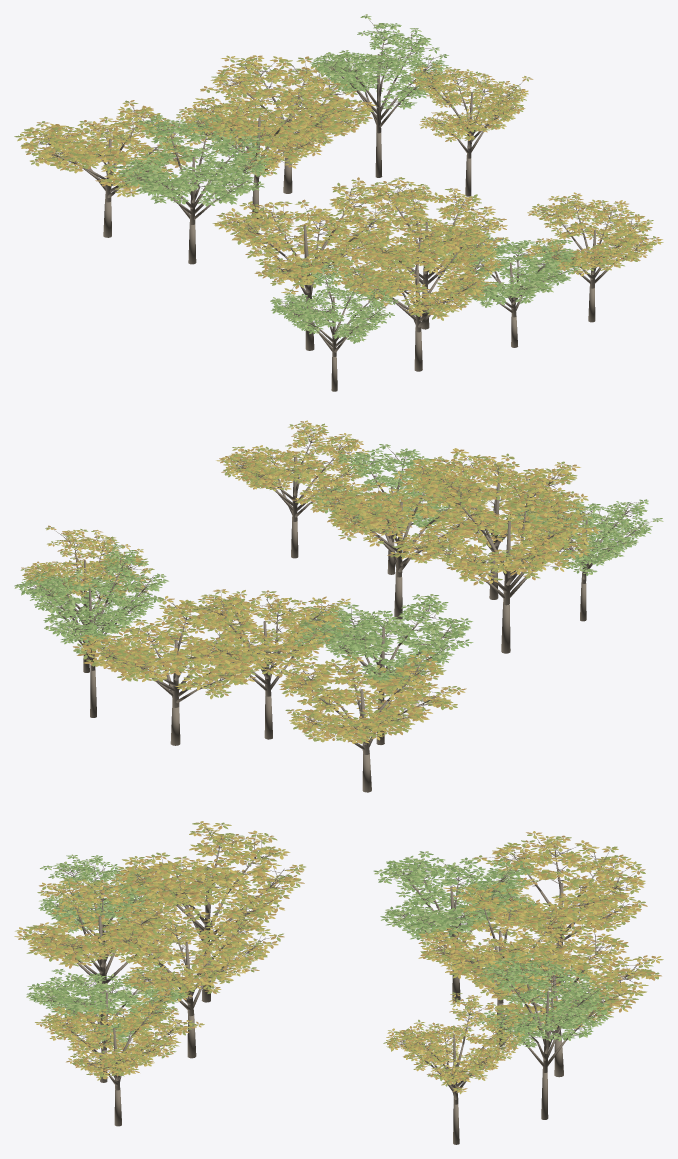
The model's file is 20261104-campus-planting-south-rear.glb.
3 renders of one model, top to bottom at view 1: azimuth 30°, elevation 25°; view 2: azimuth 150°, elevation 25°; view 3: azimuth 270°, elevation 25°, orthographic. The views are drawn at different scales.
Parts seen in each view (by area): view 1: Tree foliage 72 shade 0, Tree foliage 72 shade 2, Tree foliage 72 shade 3, Tree foliage 72 shade 1, Tree foliage 53 shade 3, Tree foliage 53 shade 1, Tree foliage 63 shade 1, Tree foliage 63 shade 0, Tree foliage 63 shade 3, Tree foliage 53 shade 0, Tree foliage 53 shade 2, Tree foliage 63 shade 2 (+48 smaller); view 2: Tree foliage 72 shade 3, Tree foliage 72 shade 0, Tree foliage 72 shade 2, Tree foliage 79 shade 1, Tree foliage 72 shade 1, Tree foliage 79 shade 0, Tree foliage 79 shade 2, Tree foliage 79 shade 3, Tree foliage 54 shade 1, Tree trunk 72, Tree foliage 54 shade 2, Tree foliage 54 shade 0 (+48 smaller); view 3: Tree foliage 72 shade 3, Tree foliage 72 shade 0, Tree foliage 72 shade 1, Tree foliage 72 shade 2, Tree foliage 42 shade 2, Tree foliage 42 shade 3, Tree foliage 42 shade 1, Tree foliage 79 shade 2, Tree foliage 79 shade 1, Tree foliage 79 shade 3, Tree foliage 42 shade 0, Tree foliage 67 shade 2 (+48 smaller).
Part boxes in pixels (x1=…): Tree foliage 72 shade 0: x1=212, y1=181, x2=398, y2=295; Tree foliage 72 shade 2: x1=216, y1=177, x2=394, y2=292; Tree foliage 72 shade 3: x1=219, y1=179, x2=397, y2=291; Tree foliage 72 shade 1: x1=214, y1=180, x2=397, y2=294; Tree foliage 53 shade 3: x1=108, y1=116, x2=272, y2=204; Tree foliage 53 shade 1: x1=113, y1=113, x2=266, y2=206; Tree foliage 63 shade 1: x1=332, y1=218, x2=496, y2=320; Tree foliage 63 shade 0: x1=334, y1=217, x2=498, y2=319; Tree foliage 63 shade 3: x1=338, y1=219, x2=501, y2=317; Tree foliage 53 shade 0: x1=108, y1=116, x2=269, y2=205; Tree foliage 53 shade 2: x1=116, y1=115, x2=267, y2=203; Tree foliage 63 shade 2: x1=333, y1=217, x2=504, y2=318; Tree foliage 72 shade 3: x1=419, y1=478, x2=595, y2=584; Tree foliage 72 shade 0: x1=422, y1=478, x2=592, y2=581; Tree foliage 72 shade 2: x1=412, y1=475, x2=598, y2=585; Tree foliage 79 shade 1: x1=275, y1=650, x2=457, y2=743; Tree foliage 72 shade 1: x1=414, y1=475, x2=600, y2=583; Tree foliage 79 shade 0: x1=276, y1=649, x2=460, y2=741; Tree foliage 79 shade 2: x1=273, y1=653, x2=465, y2=743; Tree foliage 79 shade 3: x1=271, y1=652, x2=466, y2=743; Tree foliage 54 shade 1: x1=73, y1=599, x2=272, y2=697; Tree trunk 72: x1=420, y1=477, x2=592, y2=653; Tree foliage 54 shade 2: x1=81, y1=599, x2=269, y2=699; Tree foliage 54 shade 0: x1=73, y1=598, x2=273, y2=695; Tree foliage 72 shade 3: x1=114, y1=822, x2=305, y2=930; Tree foliage 72 shade 0: x1=118, y1=823, x2=304, y2=929; Tree foliage 72 shade 1: x1=118, y1=821, x2=300, y2=930; Tree foliage 72 shade 2: x1=115, y1=822, x2=304, y2=931; Tree foliage 42 shade 2: x1=106, y1=905, x2=276, y2=1001; Tree foliage 42 shade 3: x1=107, y1=906, x2=278, y2=1001; Tree foliage 42 shade 1: x1=101, y1=908, x2=283, y2=1001; Tree foliage 79 shade 2: x1=478, y1=831, x2=644, y2=933; Tree foliage 79 shade 1: x1=475, y1=835, x2=645, y2=932; Tree foliage 79 shade 3: x1=474, y1=832, x2=647, y2=933; Tree foliage 42 shade 0: x1=102, y1=909, x2=284, y2=1000; Tree foliage 67 shade 2: x1=418, y1=882, x2=579, y2=980.
Size of the model in its own units: 37.23 by 11.42 by 44.23.
